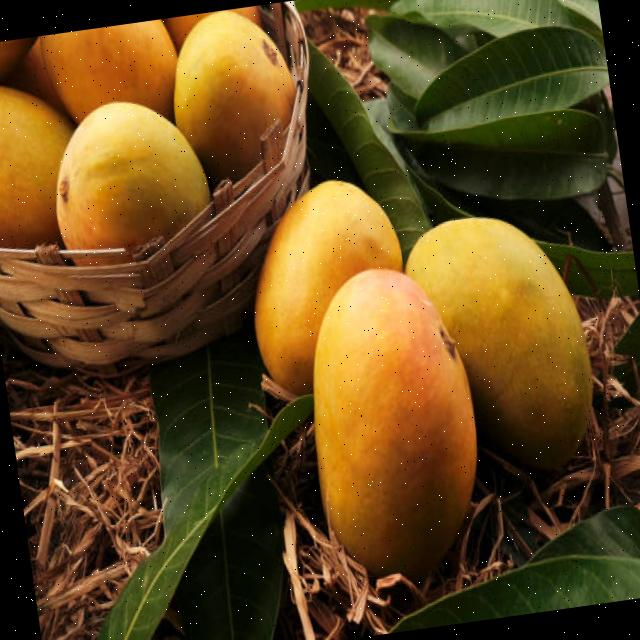mango: (315, 270, 477, 576), (405, 218, 593, 469), (255, 181, 402, 396), (56, 102, 210, 250), (176, 11, 296, 185), (40, 19, 178, 122), (0, 88, 73, 248)
